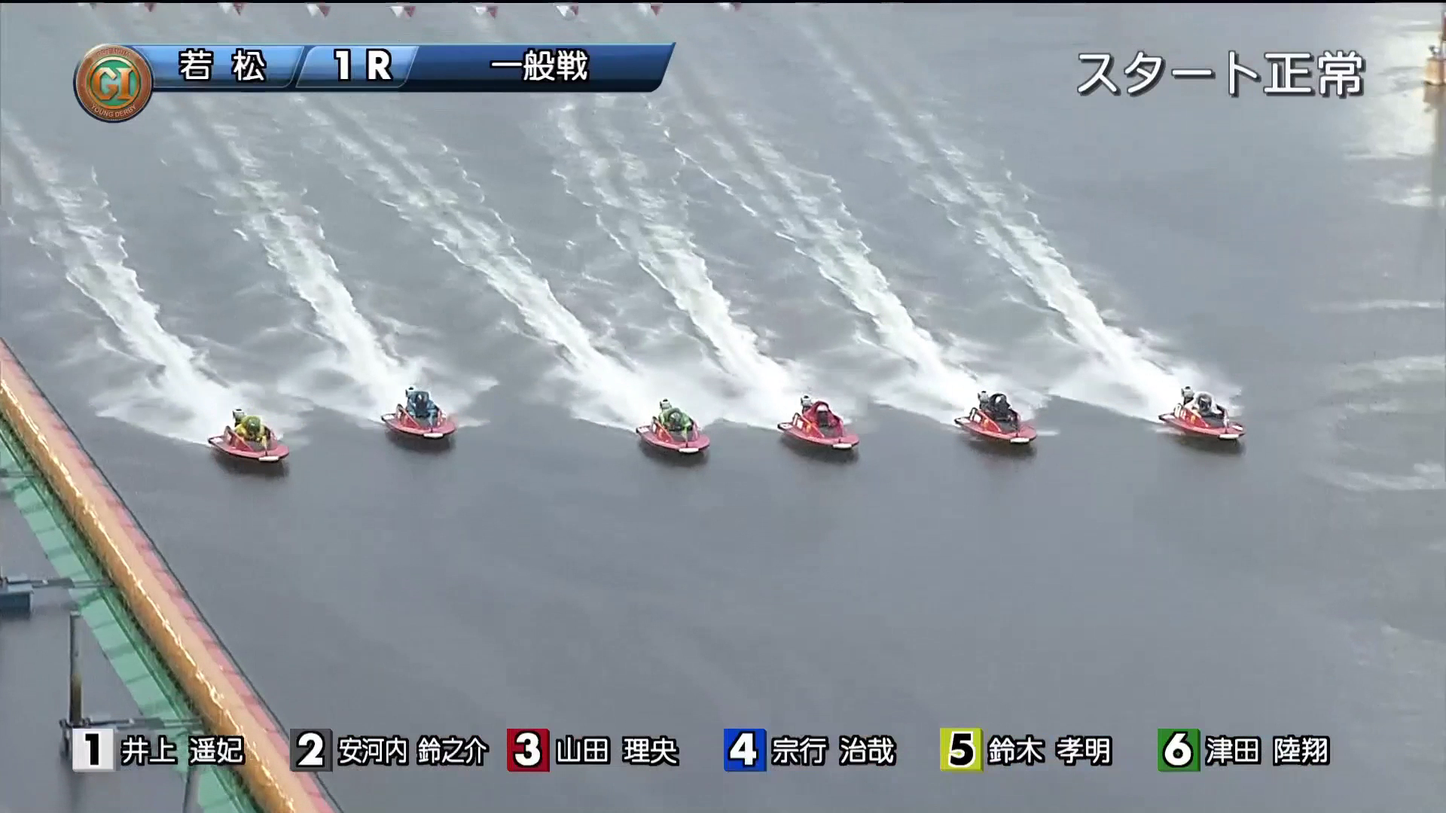１号艇: (1178, 410, 1257, 450)
２号艇: (805, 360, 894, 398)
３号艇: (727, 386, 818, 428)
４号艇: (657, 403, 762, 446)
５号艇: (504, 418, 625, 473)
６号艇: (499, 460, 598, 517)
